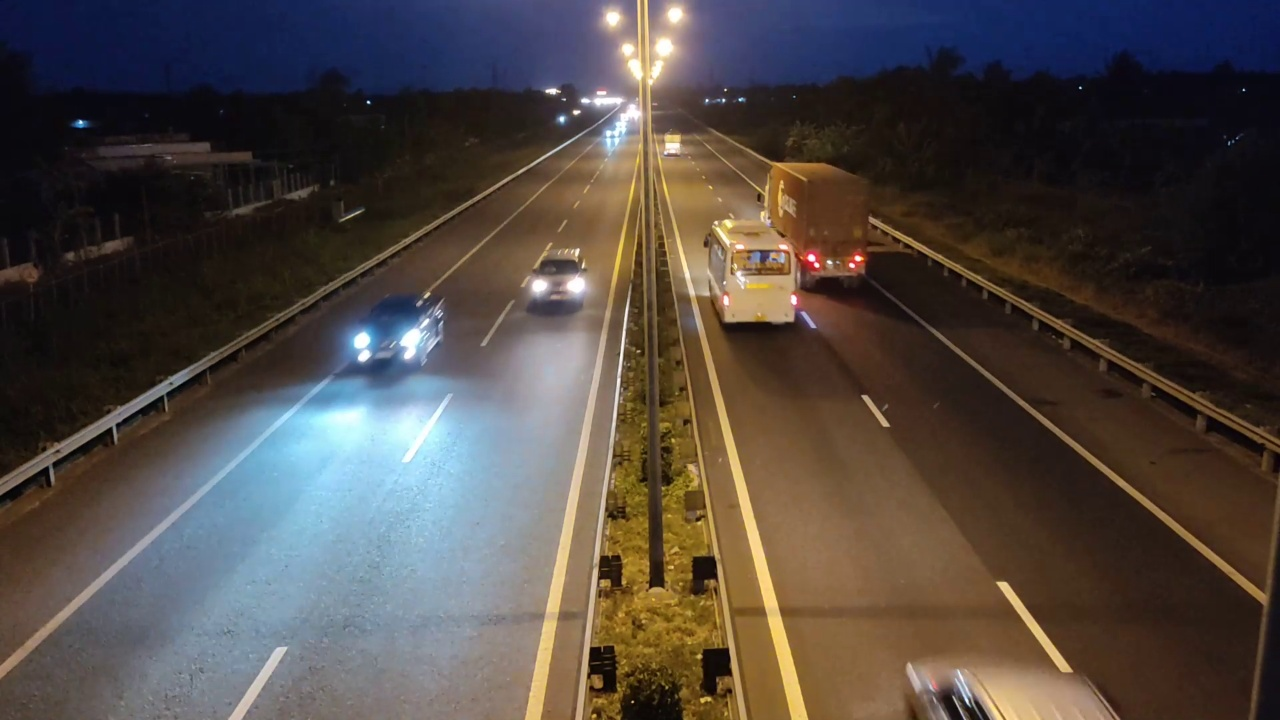bus: (703, 217, 801, 327)
car: (348, 292, 447, 371), (523, 246, 588, 315)
truck: (763, 159, 871, 291)
